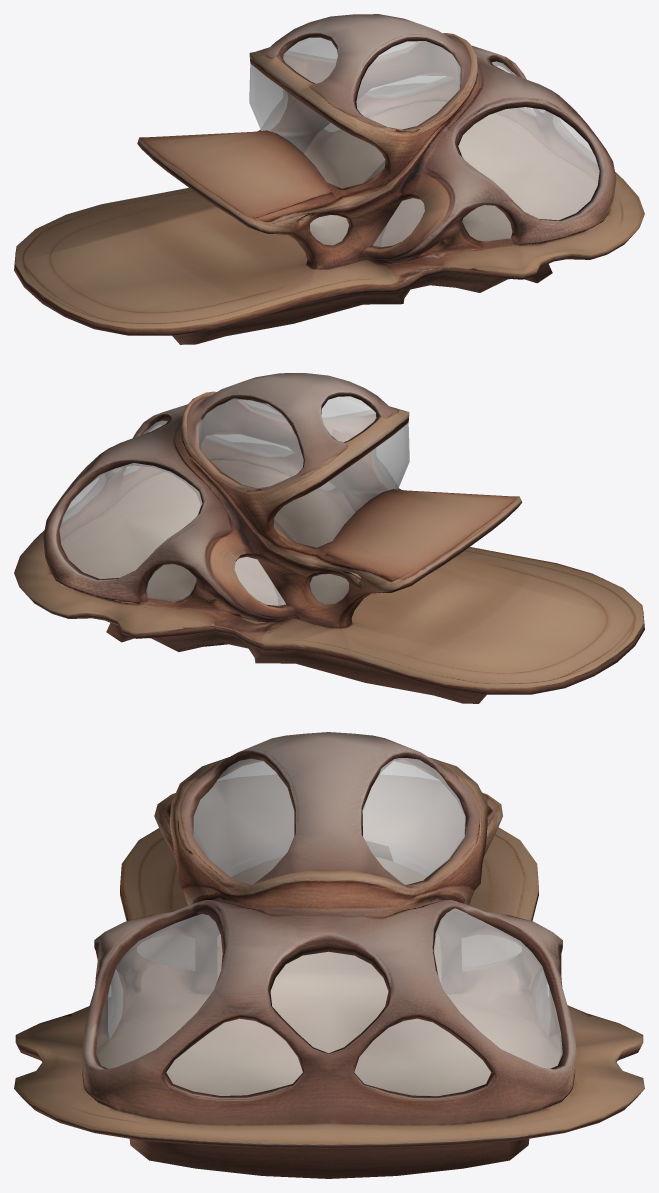
Rendered from CareCentreDome01.glb.
3 renders of one model, top to bottom at view 1: azimuth 30°, elevation 25°; view 2: azimuth 150°, elevation 25°; view 3: azimuth 270°, elevation 25°, orthographic. The views are drawn at different scales.
Parts seen in each view (by area): view 1: CareCenterWooden, CareCenterGlass, CareCenterGlass.001; view 2: CareCenterWooden, CareCenterGlass, CareCenterGlass.001; view 3: CareCenterWooden, CareCenterGlass, CareCenterGlass.001.
Boxes of the visible parts, left/top/right/bottom form: CareCenterWooden: left=14, top=14, right=644, bottom=344; CareCenterGlass: left=249, top=37, right=599, bottom=246; CareCenterGlass.001: left=249, top=38, right=599, bottom=246; CareCenterWooden: left=14, top=373, right=644, bottom=703; CareCenterGlass: left=59, top=396, right=409, bottom=605; CareCenterGlass.001: left=59, top=396, right=409, bottom=605; CareCenterWooden: left=14, top=732, right=644, bottom=1178; CareCenterGlass: left=96, top=758, right=562, bottom=1095; CareCenterGlass.001: left=96, top=758, right=562, bottom=1095.
Size of the model in its own units: 35.49 by 14.93 by 25.63.
Materials: 2 (2 with a texture image).
